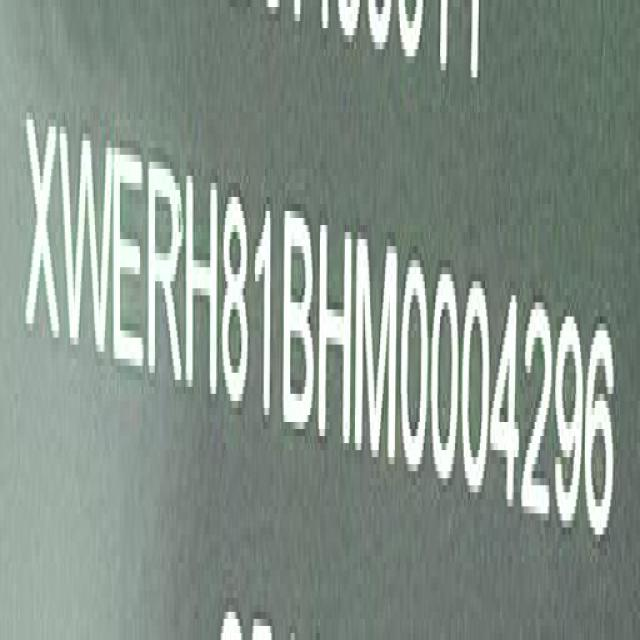0: (400, 248, 432, 482), (463, 275, 492, 502), (432, 264, 461, 491)
1: (258, 198, 276, 430)
2: (524, 305, 553, 528)
4: (492, 284, 523, 518)
6: (584, 316, 616, 547)
8: (222, 187, 250, 420)
9: (554, 311, 582, 540)
B: (281, 200, 312, 434)
E: (113, 138, 147, 386)
H: (315, 200, 355, 469), (185, 162, 222, 409)
M: (356, 229, 399, 470)
R: (146, 155, 184, 399)
W: (61, 117, 112, 369)
X: (24, 106, 61, 357)
